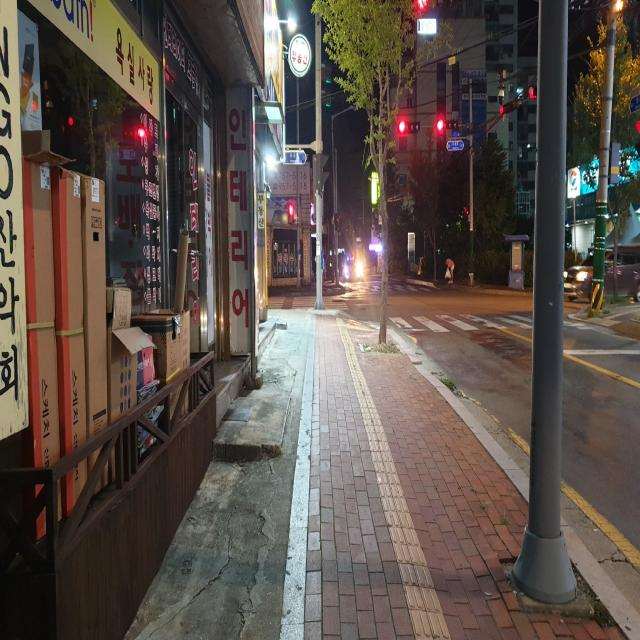횡단보도: (401, 315, 528, 332), (267, 296, 349, 310)
